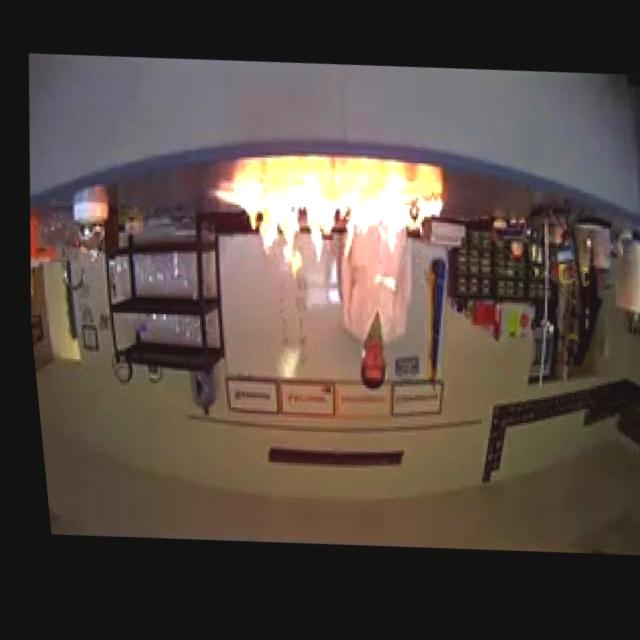Smoke: (197, 174, 448, 297)
